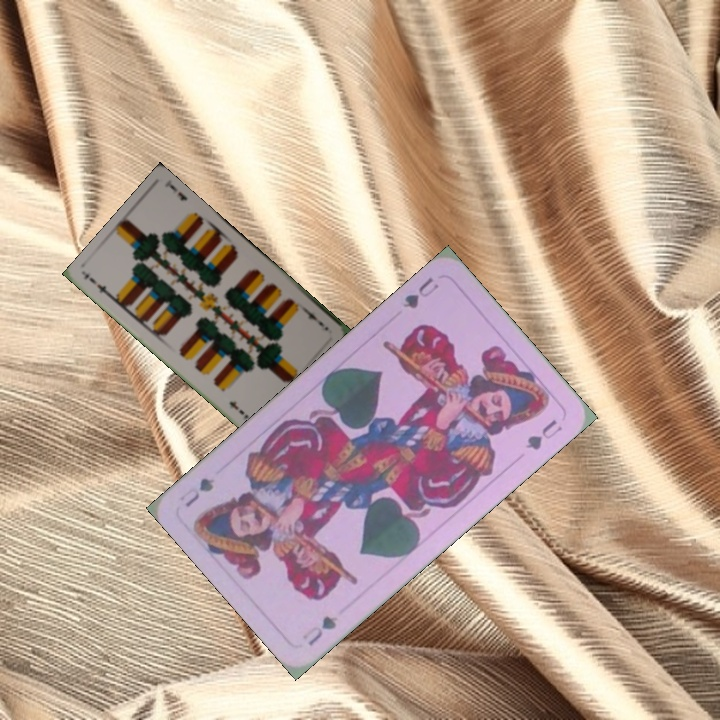E7: (85, 273, 116, 301), (301, 305, 331, 333)
GU: (398, 272, 442, 312), (298, 611, 340, 649)
